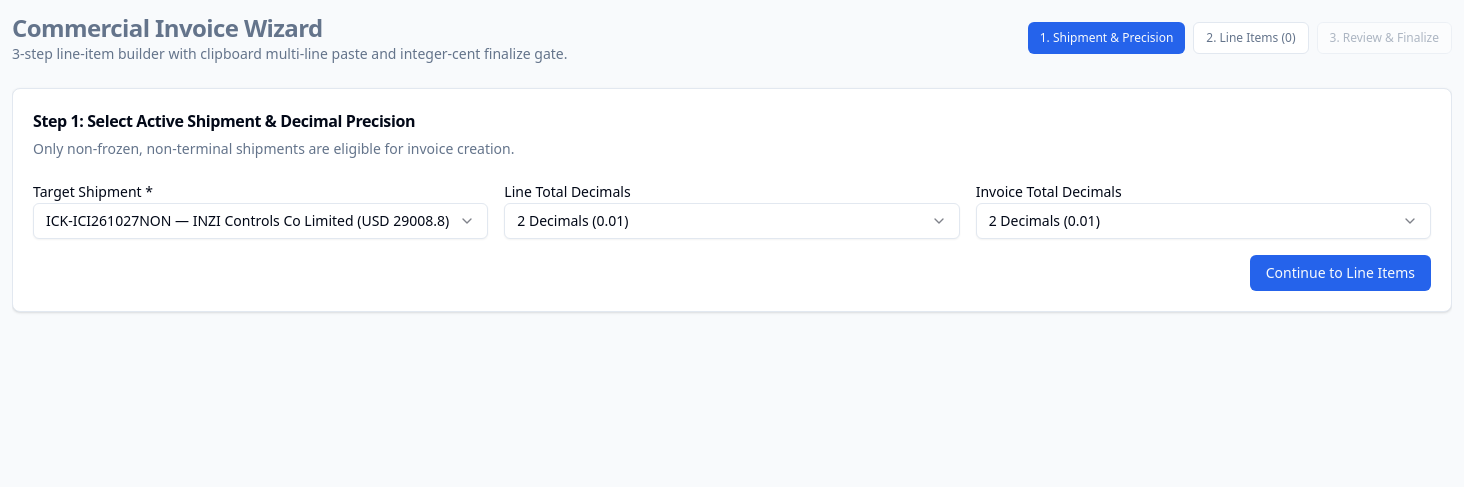
Test case: Stage 5 Shipments & Invoice Wizard UI › allows searching and filtering catalog items by part number or description in Invoice Wizard
The width and height of the screenshot is (1464, 487).
Later steps or results of the test are not shown.
Click the button "Continue to Line Items": (1340, 273) left=1250, top=255, right=1431, bottom=291
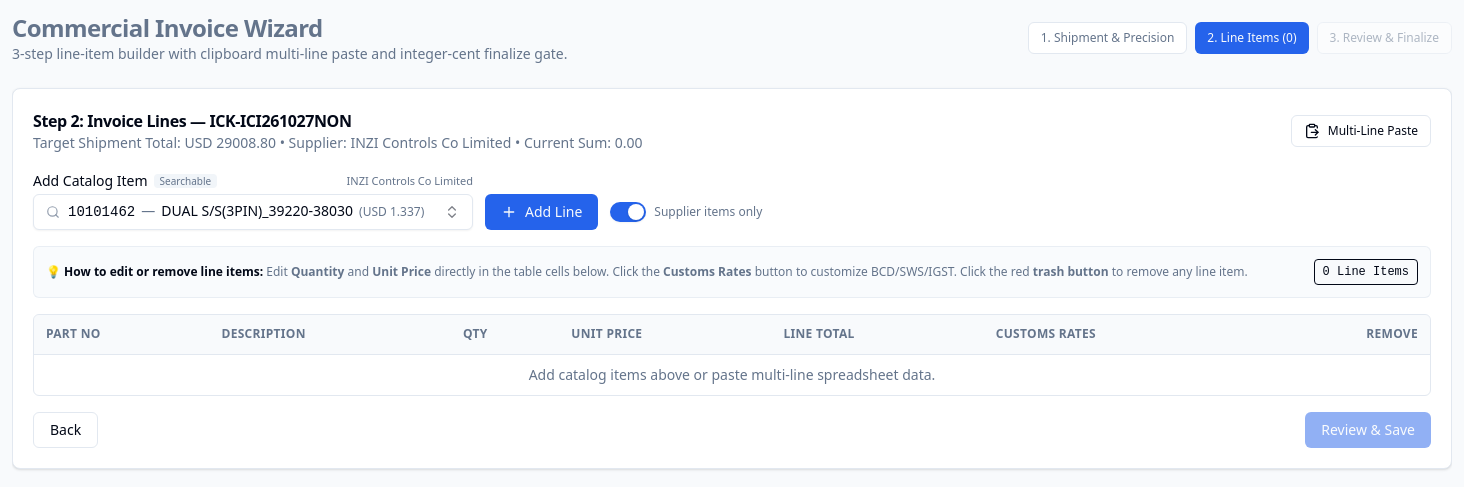
Result: the dropdown named "Add Catalog Item" is shown at left=33, top=194, right=473, bottom=230
